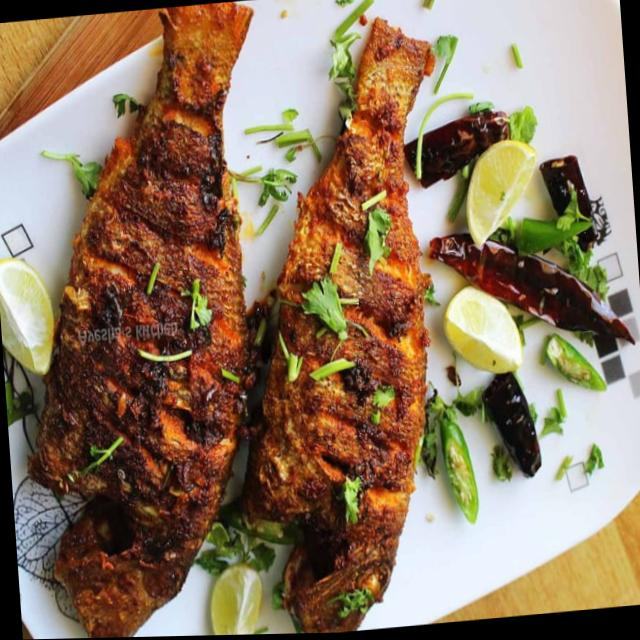FISH FRY: (27, 3, 254, 638), (248, 28, 430, 631)
